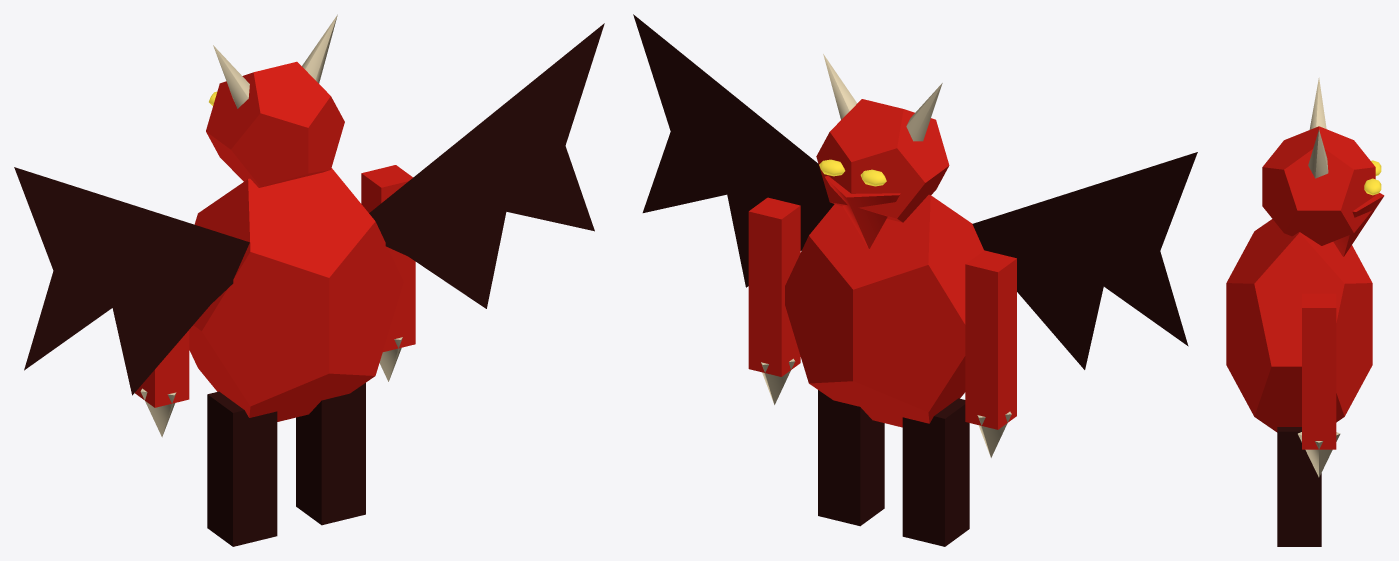
Rendered from devil.glb.
3 views of the same model, side by side, from view 1: azimuth 30°, elevation 25°; view 2: azimuth 150°, elevation 25°; view 3: azimuth 270°, elevation 25° (orthographic). The views are drawn at different scales.
Visible parts, largest first — view 1: The Devil; view 2: The Devil; view 3: The Devil.
Boxes of the visible parts, x1,y1,x2,y2 form: The Devil: (14, 14, 604, 546); The Devil: (633, 14, 1197, 546); The Devil: (1226, 77, 1384, 546).
Size of the model in its own units: 5.1 by 3.99 by 1.37.
